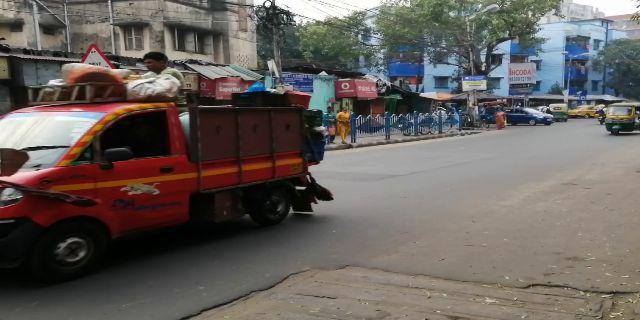Autorickshaw: (602, 97, 637, 140)
Minitruck: (4, 98, 323, 269)
